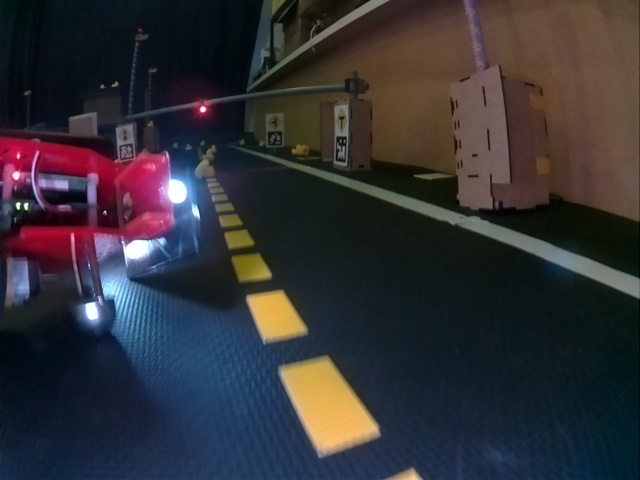Duckie: (195, 160, 215, 178), (299, 145, 310, 153)
Duckiebot: (1, 134, 174, 333)
Intersection sign: (334, 107, 346, 131), (267, 115, 282, 129)
QR code: (332, 136, 347, 164), (267, 132, 282, 145), (120, 144, 133, 157)
Signal sign: (117, 128, 131, 141)
